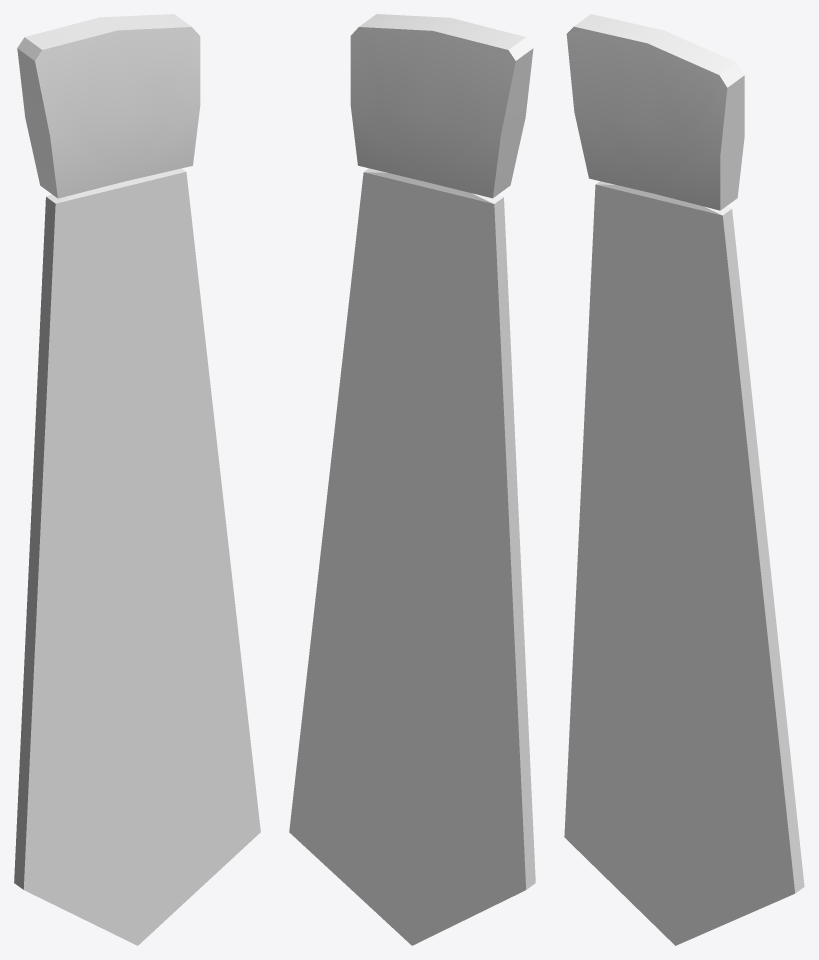
The model's file is tie_green.fbx.
3 views of the same model, side by side, from view 1: azimuth 30°, elevation 25°; view 2: azimuth 150°, elevation 25°; view 3: azimuth 330°, elevation 25° (orthographic). The views are drawn at different scales.
Visible parts, largest first — view 1: Line003; view 2: Line003; view 3: Line003.
Boxes of the visible parts, <box> form: Line003: <box>14,14,260,945</box>; Line003: <box>289,14,535,945</box>; Line003: <box>564,14,804,945</box>.
Size of the model in its own units: 36.86 by 137 by 6.82.
